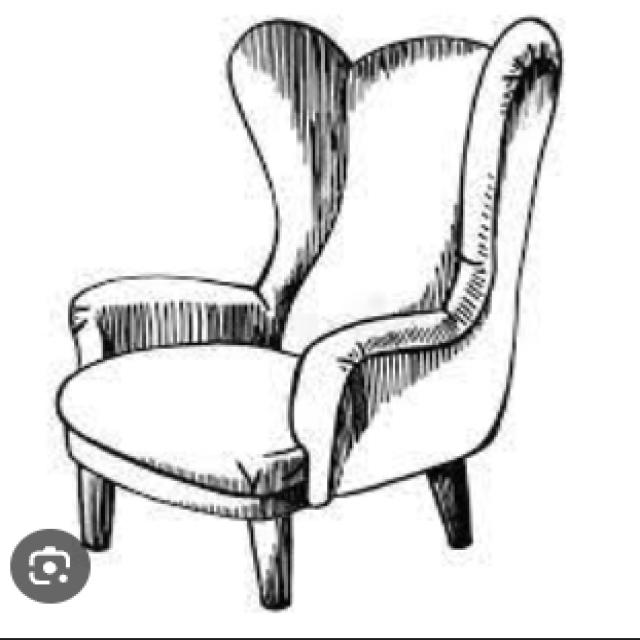Armrest: (283, 308, 521, 511), (66, 275, 281, 370)
Backrest: (275, 34, 489, 360)
Leg_Structure: (72, 449, 480, 614)
Seat: (54, 341, 308, 523)
Wing_Flange: (222, 16, 355, 332), (444, 12, 567, 328)
